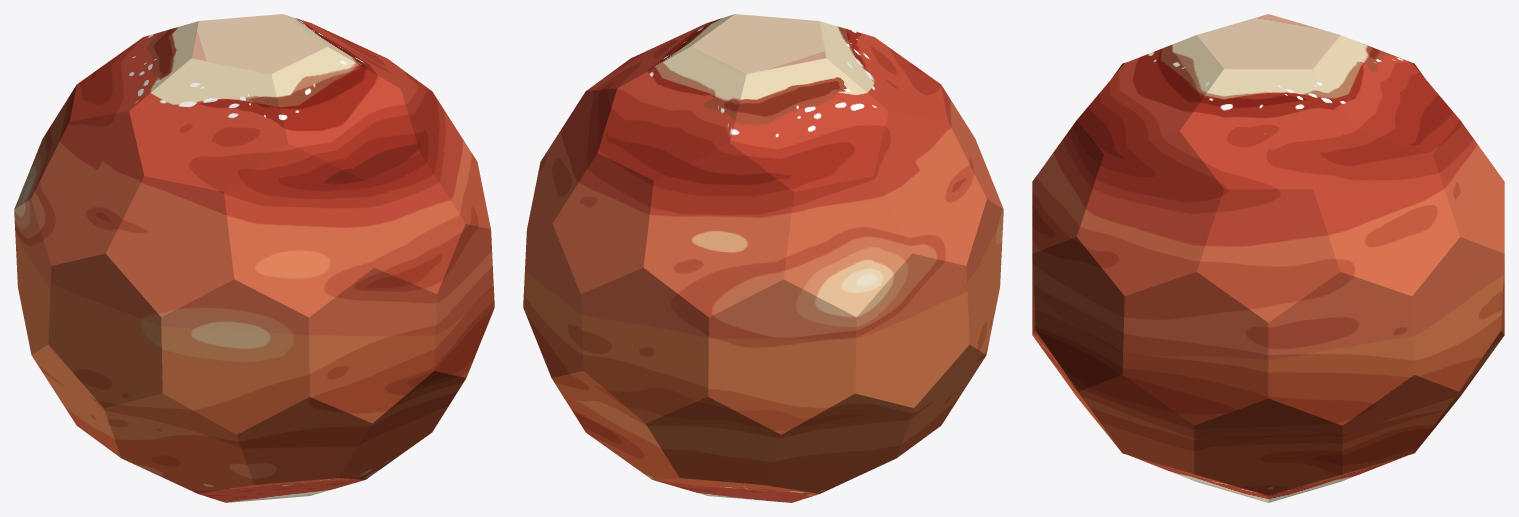
File: mars.glb
The picture shows the model from 3 angles, left to right: view 1: azimuth 30°, elevation 25°; view 2: azimuth 150°, elevation 25°; view 3: azimuth 270°, elevation 25°; orthographic projection.
Visible parts, largest first — view 1: Icosphere.023, Icosphere.012, Icosphere.016, Icosphere.007, Icosphere.008, Icosphere.015, Icosphere.039, Icosphere.022, Icosphere.038, Icosphere.028, Icosphere.034, Icosphere.011 (+9 smaller); view 2: Icosphere.021, Icosphere.009, Icosphere.017, Icosphere.014, Icosphere.013, Icosphere.018, Icosphere.040, Icosphere.022, Icosphere.041, Icosphere.027, Icosphere.036, Icosphere.010 (+9 smaller); view 3: Icosphere.006, Icosphere.025, Icosphere.020, Icosphere.024, Icosphere.019, Icosphere.042, Icosphere.003, Icosphere.010, Icosphere.011, Icosphere.015, Icosphere.018, Icosphere.033 (+8 smaller).
Part boxes in pixels (left/top/right/bottom): Icosphere.023: left=224, top=143, right=374, bottom=317; Icosphere.012: left=161, top=279, right=309, bottom=434; Icosphere.016: left=129, top=58, right=287, bottom=191; Icosphere.007: left=309, top=267, right=437, bottom=423; Icosphere.008: left=48, top=253, right=162, bottom=407; Icosphere.015: left=271, top=47, right=420, bottom=180; Icosphere.039: left=106, top=176, right=234, bottom=317; Icosphere.022: left=31, top=111, right=144, bottom=265; Icosphere.038: left=364, top=153, right=465, bottom=293; Icosphere.028: left=104, top=393, right=253, bottom=493; Icosphere.034: left=237, top=397, right=372, bottom=484; Icosphere.011: left=434, top=223, right=494, bottom=377; Icosphere.021: left=643, top=143, right=793, bottom=317; Icosphere.009: left=708, top=279, right=856, bottom=434; Icosphere.017: left=730, top=58, right=888, bottom=191; Icosphere.014: left=580, top=267, right=708, bottom=423; Icosphere.013: left=855, top=253, right=969, bottom=407; Icosphere.018: left=597, top=47, right=746, bottom=180; Icosphere.040: left=783, top=176, right=911, bottom=317; Icosphere.022: left=873, top=111, right=986, bottom=265; Icosphere.041: left=552, top=153, right=653, bottom=293; Icosphere.027: left=764, top=393, right=913, bottom=493; Icosphere.036: left=645, top=397, right=780, bottom=484; Icosphere.010: left=523, top=223, right=583, bottom=377; Icosphere.006: left=1122, top=272, right=1268, bottom=425; Icosphere.025: left=1268, top=272, right=1414, bottom=425; Icosphere.020: left=1313, top=131, right=1460, bottom=295; Icosphere.024: left=1076, top=131, right=1223, bottom=295; Icosphere.019: left=1180, top=69, right=1356, bottom=189; Icosphere.042: left=1196, top=189, right=1340, bottom=322; Icosphere.003: left=1194, top=398, right=1342, bottom=495; Icosphere.010: left=1412, top=237, right=1504, bottom=391; Icosphere.011: left=1032, top=237, right=1124, bottom=391; Icosphere.015: left=1077, top=35, right=1223, bottom=153; Icosphere.018: left=1313, top=35, right=1459, bottom=153; Icosphere.033: left=1078, top=375, right=1194, bottom=474.
Bounding box in the file's own units: 6.78 × 6.78 × 6.78.
1 material, 1 textured.
